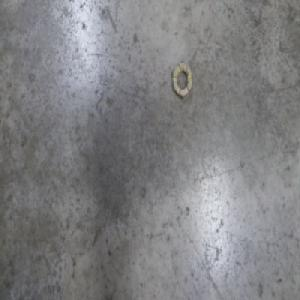Nut: (171, 58, 192, 99)
